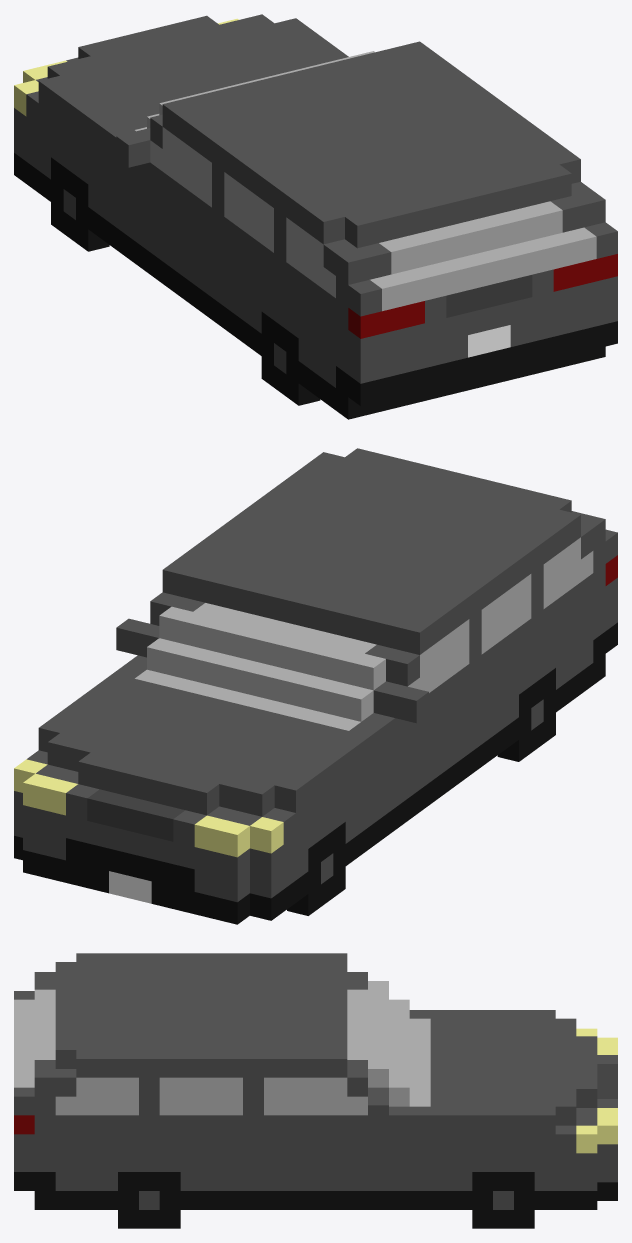
The model's file is RS6.vox.obj.
3 renders of one model, top to bottom at view 1: azimuth 30°, elevation 25°; view 2: azimuth 150°, elevation 25°; view 3: azimuth 270°, elevation 25°, orthographic. The views are drawn at different scales.
Bounding box in the file's own units: 1.4 × 0.9 × 2.9.
Materials: 1 (1 with a texture image).
